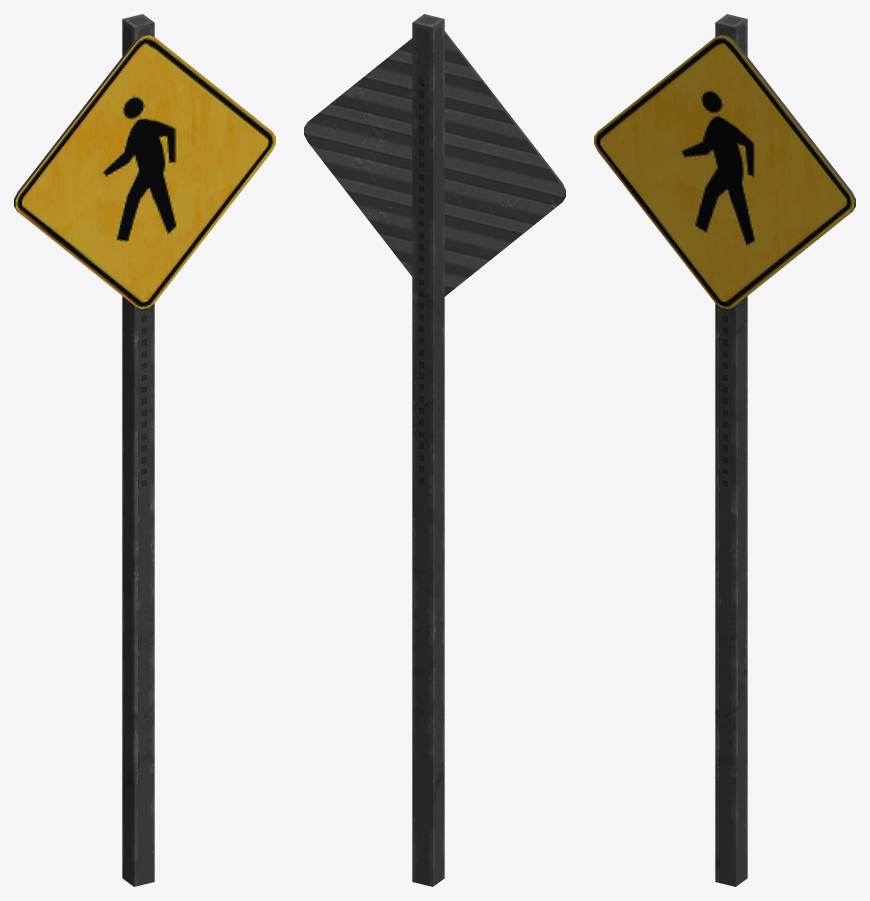
Rendered from Road_Sign_02.fbx.
3 views of the same model, side by side, from view 1: azimuth 30°, elevation 25°; view 2: azimuth 150°, elevation 25°; view 3: azimuth 330°, elevation 25° (orthographic).
Visible parts, largest first — view 1: Road_Sign_02; view 2: Road_Sign_02; view 3: Road_Sign_02.
Part boxes in pixels (x1,y1,x2,y2): Road_Sign_02: (14,14,275,886); Road_Sign_02: (304,14,565,886); Road_Sign_02: (594,14,855,886).
Size of the model in its own units: 64.93 by 205 by 5.7.
